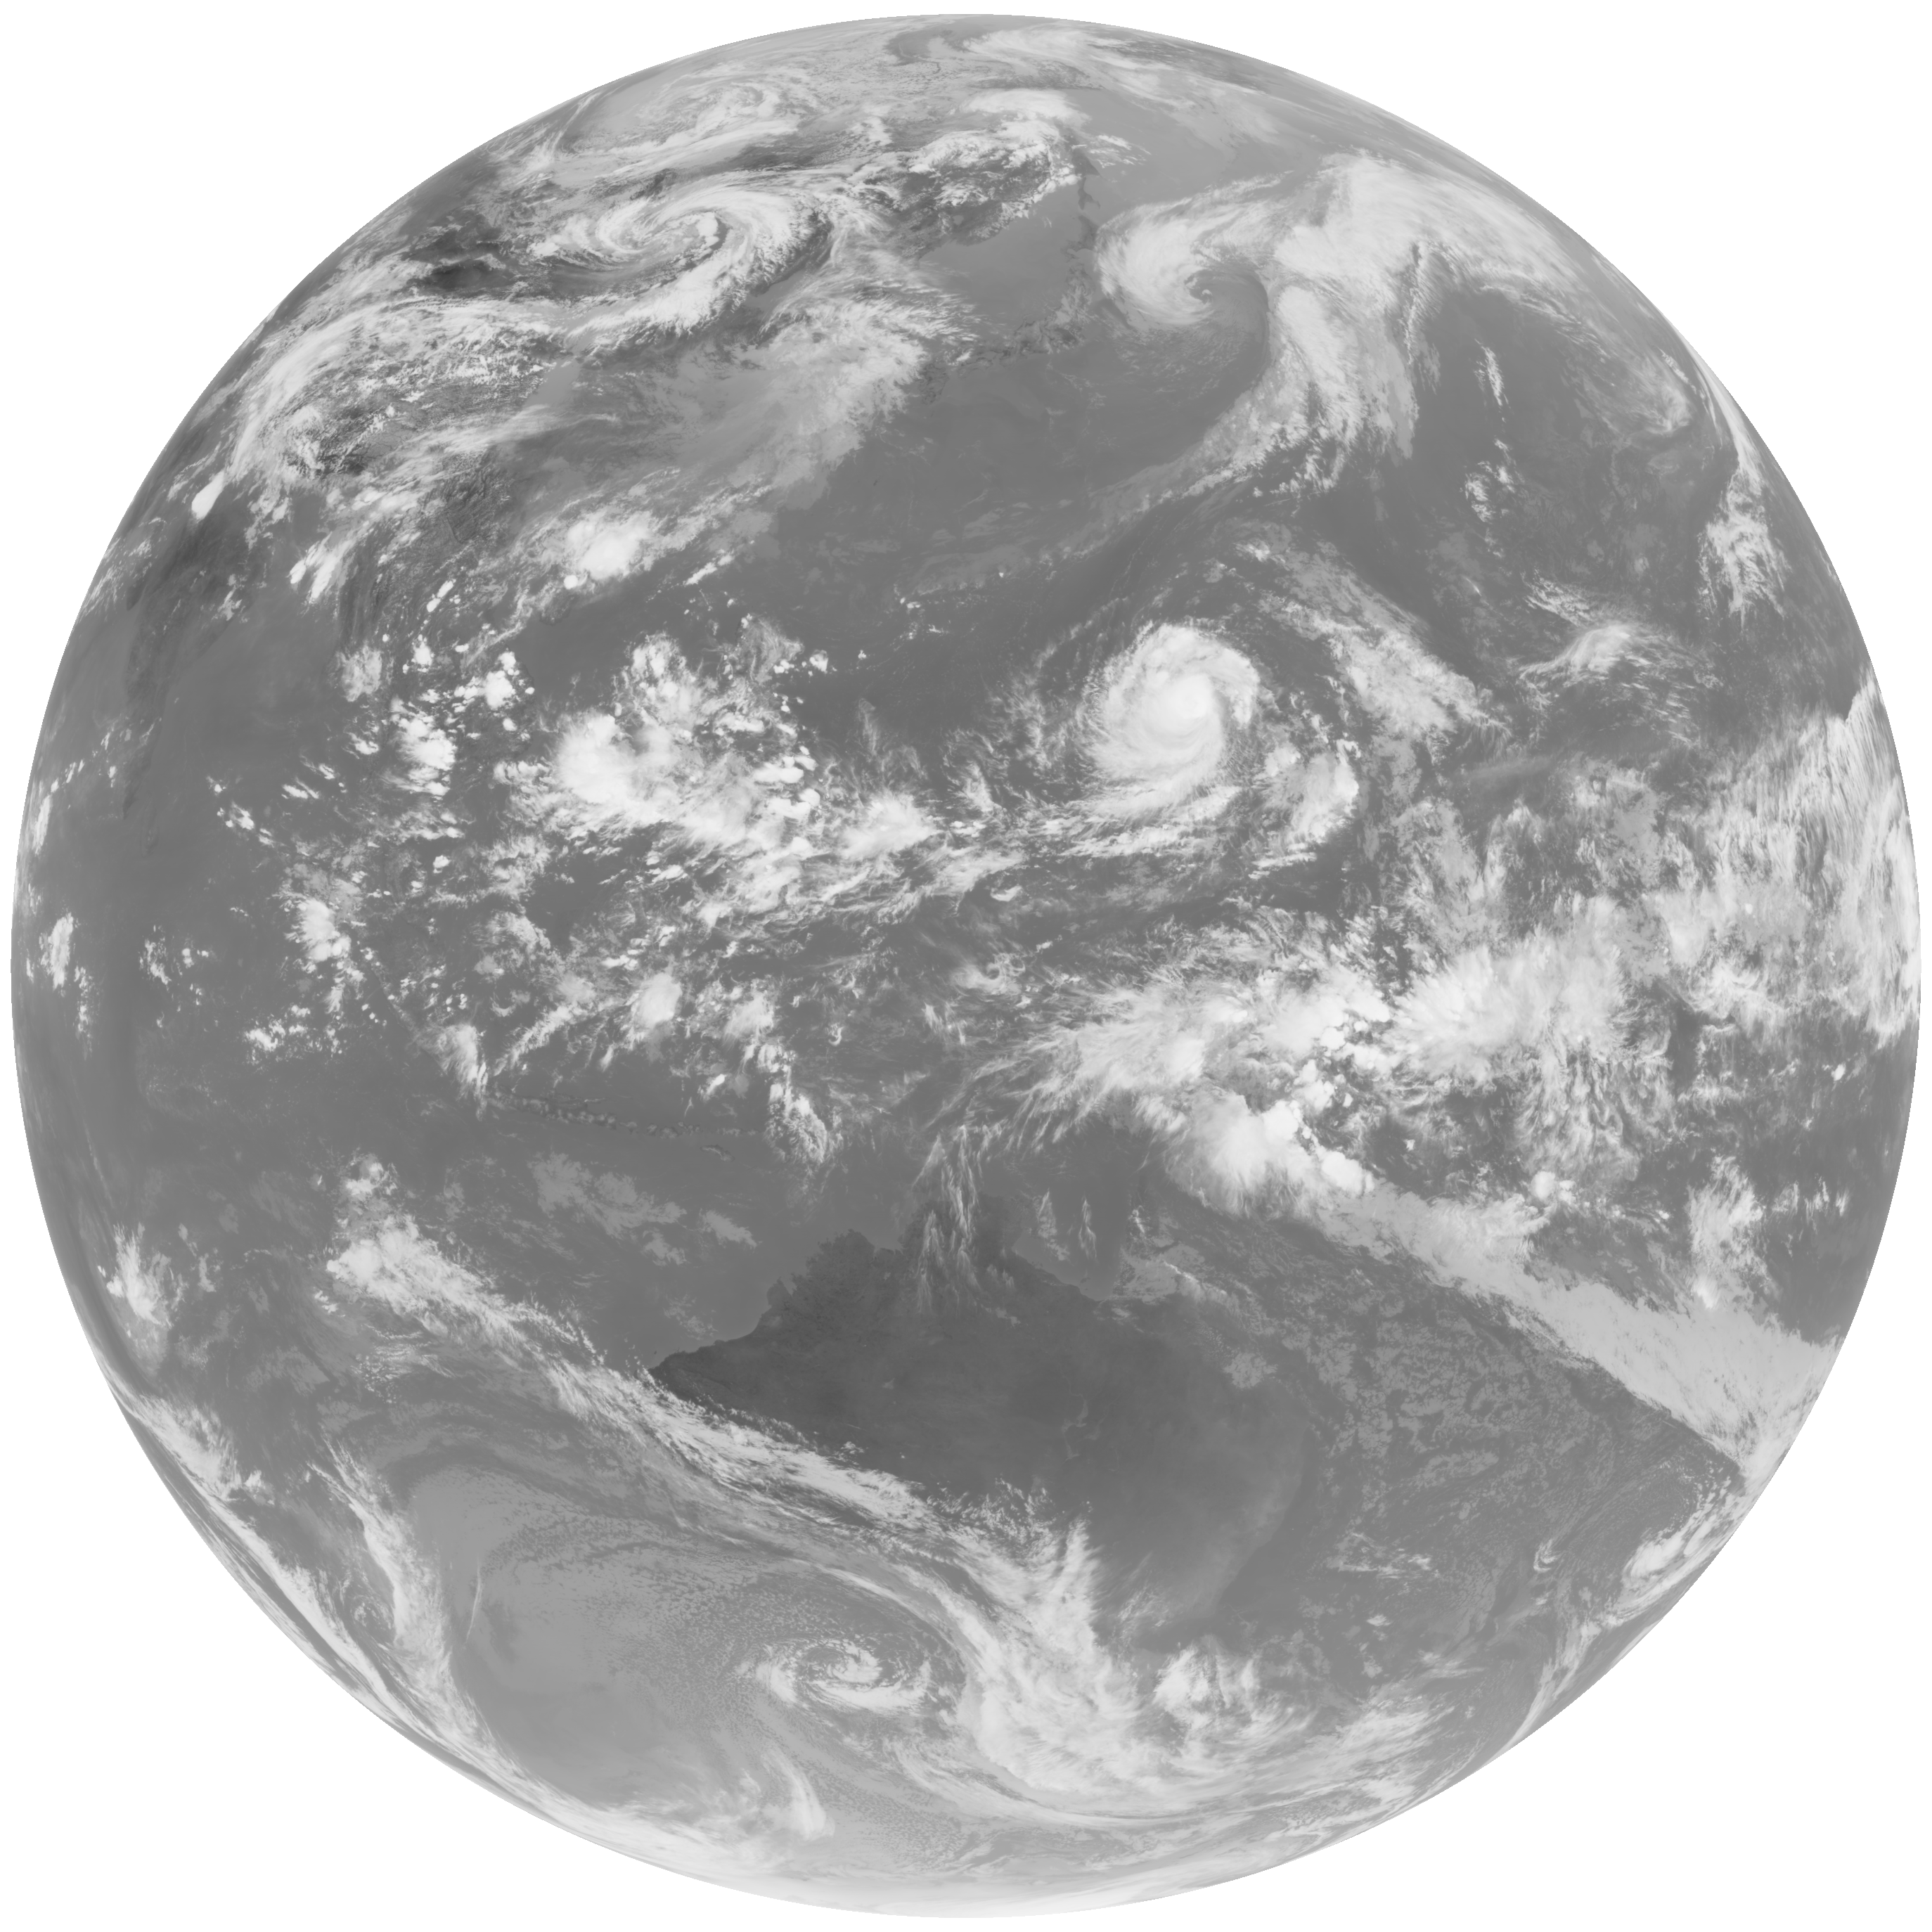typhoon: (911, 554, 1408, 899)
